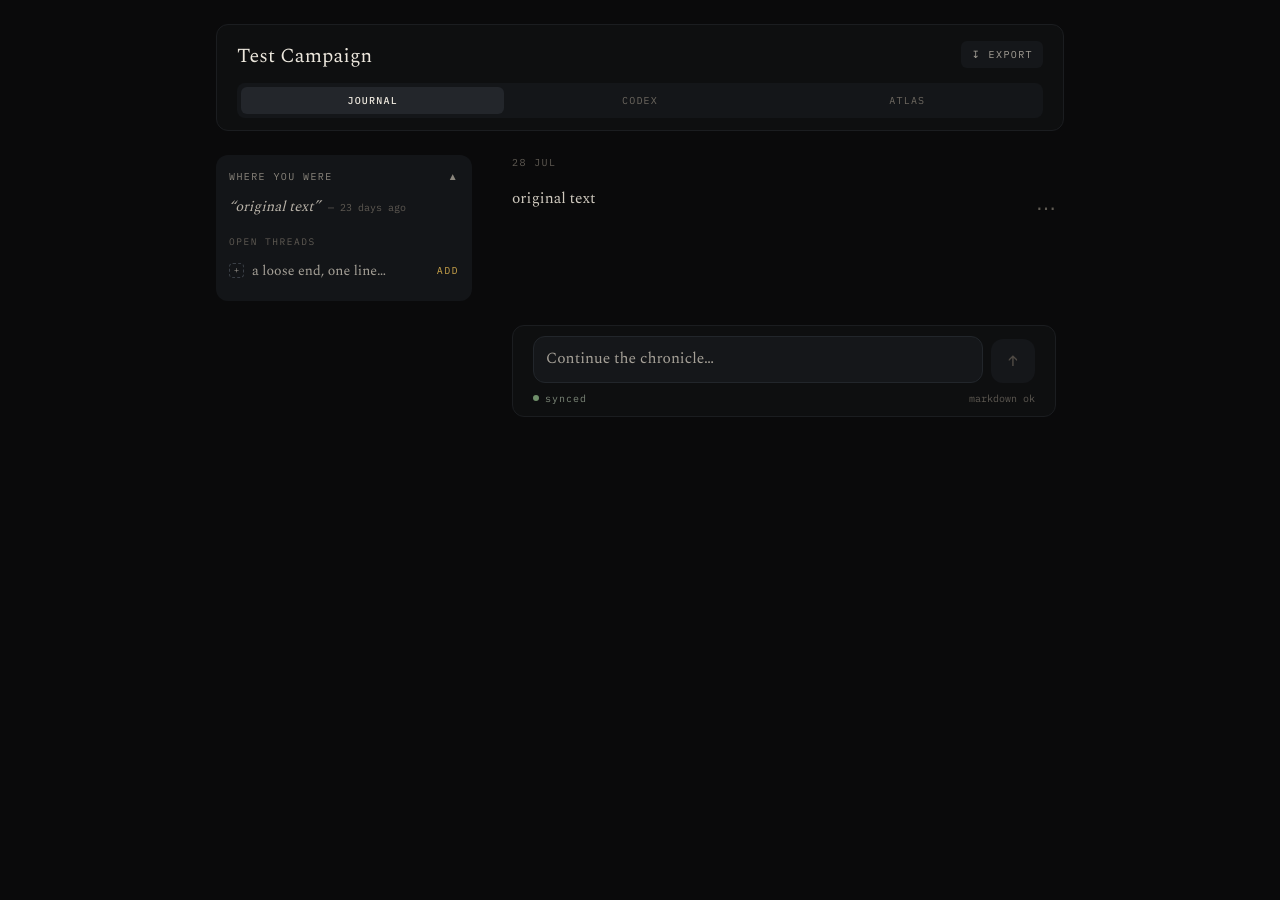
Scenario: Entry edit — the collision law (Lap 6) › THE COLLISION TEST: editing an entry never reads or writes the new-entry draft keys
Expected: the text "original text" is shown, [512,187,596,210]
// Type a new-entry draft and let it flush.
Type "original new-entry draft" into the text box with placeholder "Continue the chronicle…".
click(758, 359); type("original new-entry draft")  # box [533,336,983,382]
Wait 500 ms
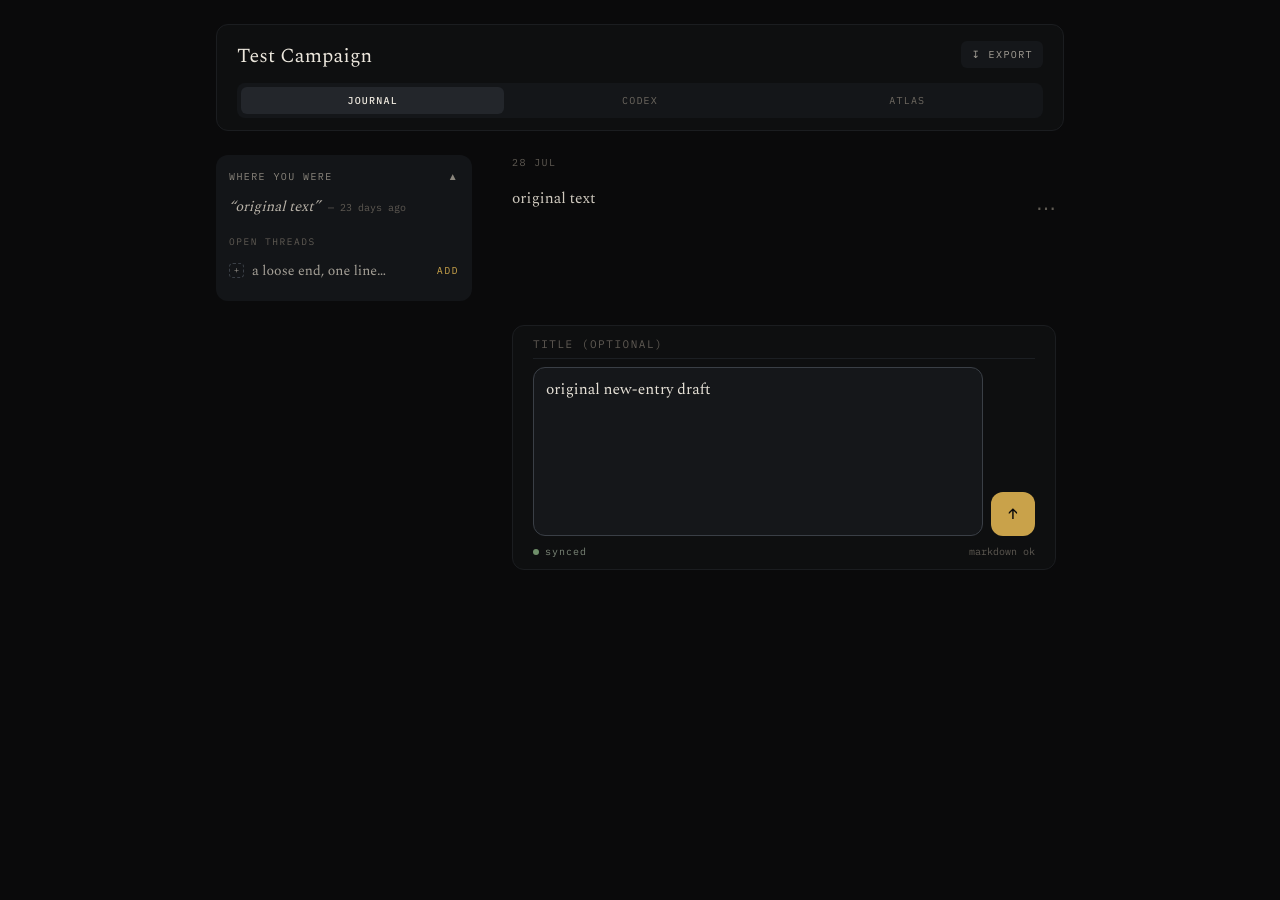
// Enter edit mode on the existing entry.
Click the button named "Entry actions".
click(1046, 208)  # box [1024,186,1068,230]
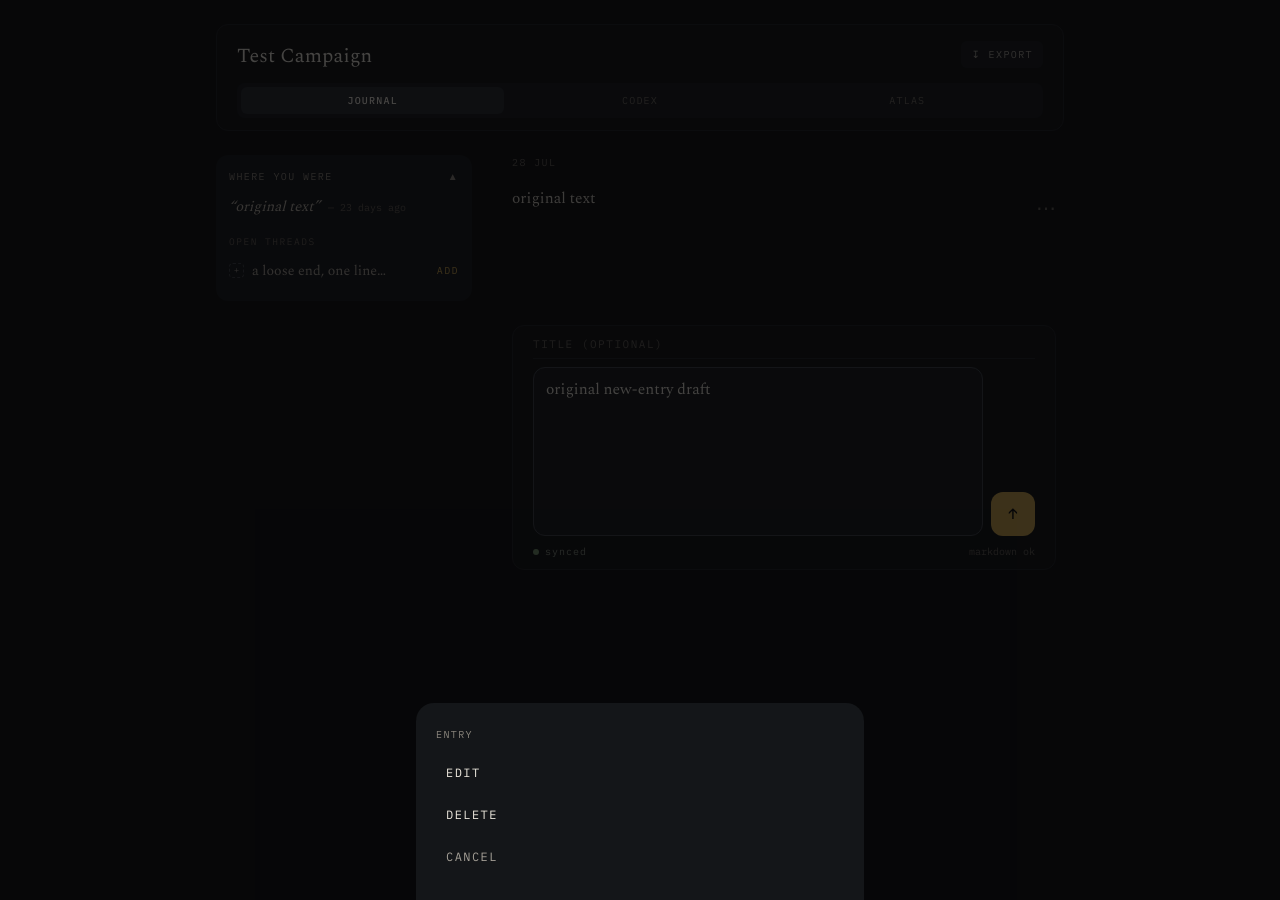
Click the button "Edit".
click(463, 772)  # box [436,754,844,792]
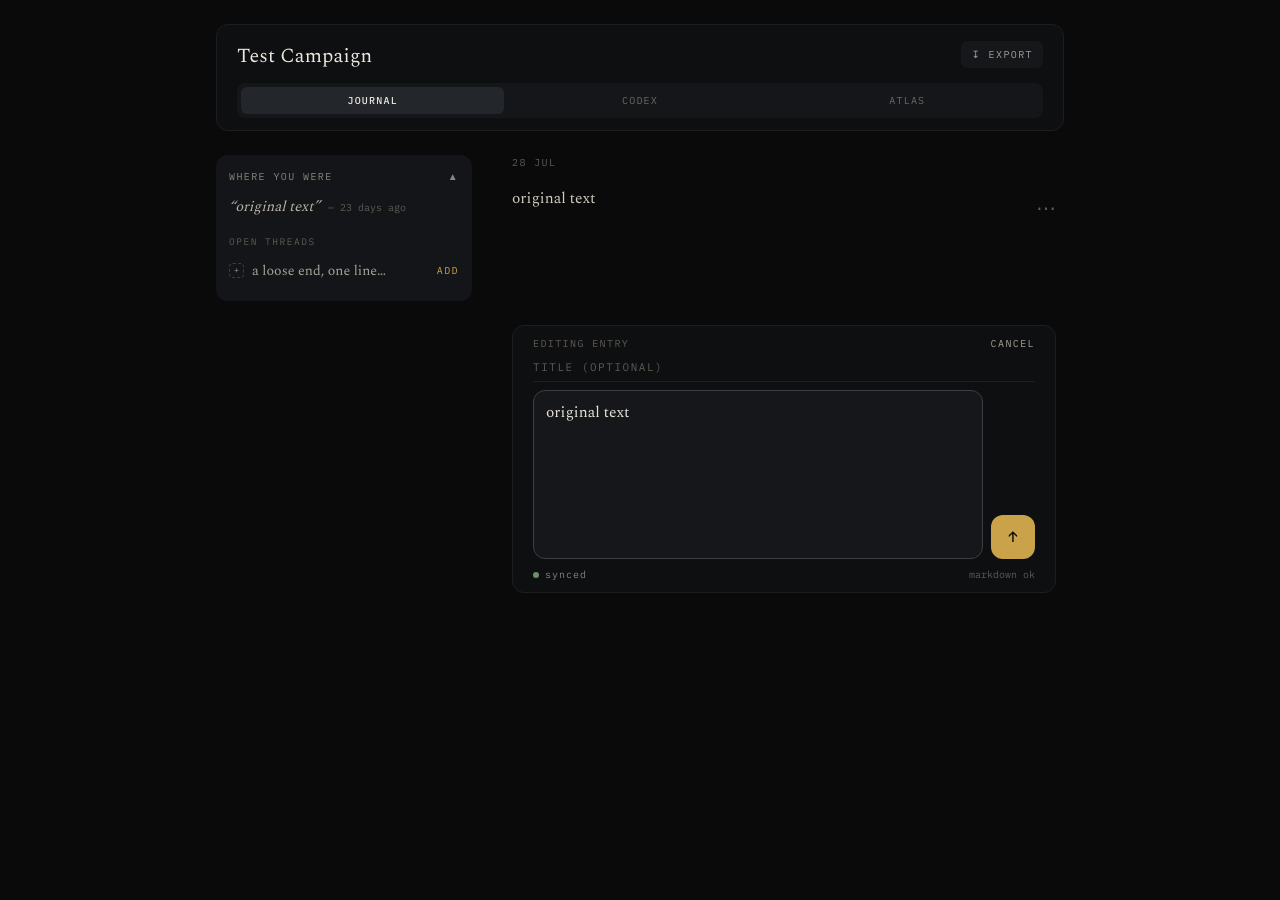
Expected: the text box with placeholder "Continue the chronicle…" holds "original text"
Replace the text in the text box with placeholder "Continue the chronicle…" with "edited text mid-flight" at (758, 475), box [533,390,983,559]
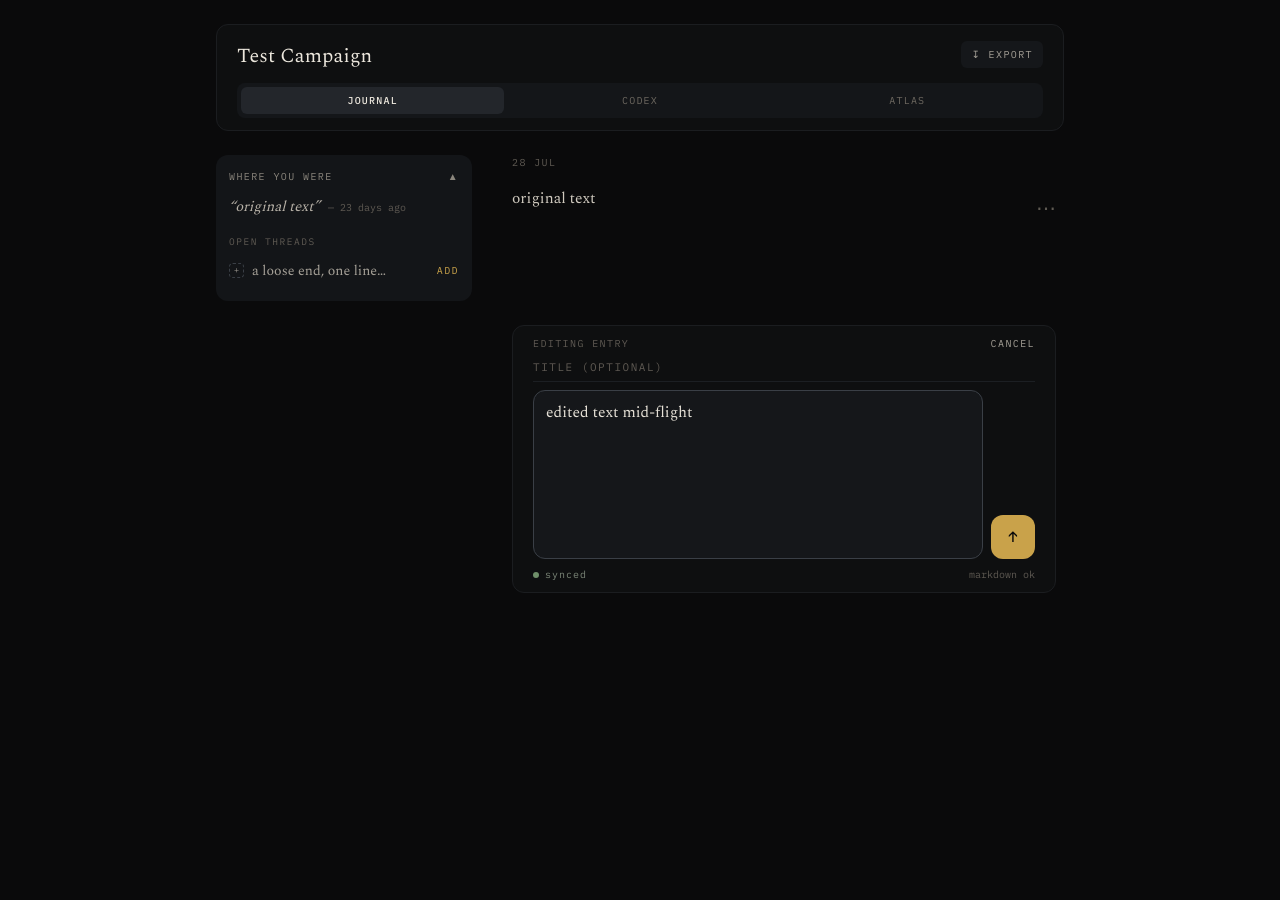
Click the button "Cancel".
click(1013, 343)  # box [991,336,1035,351]
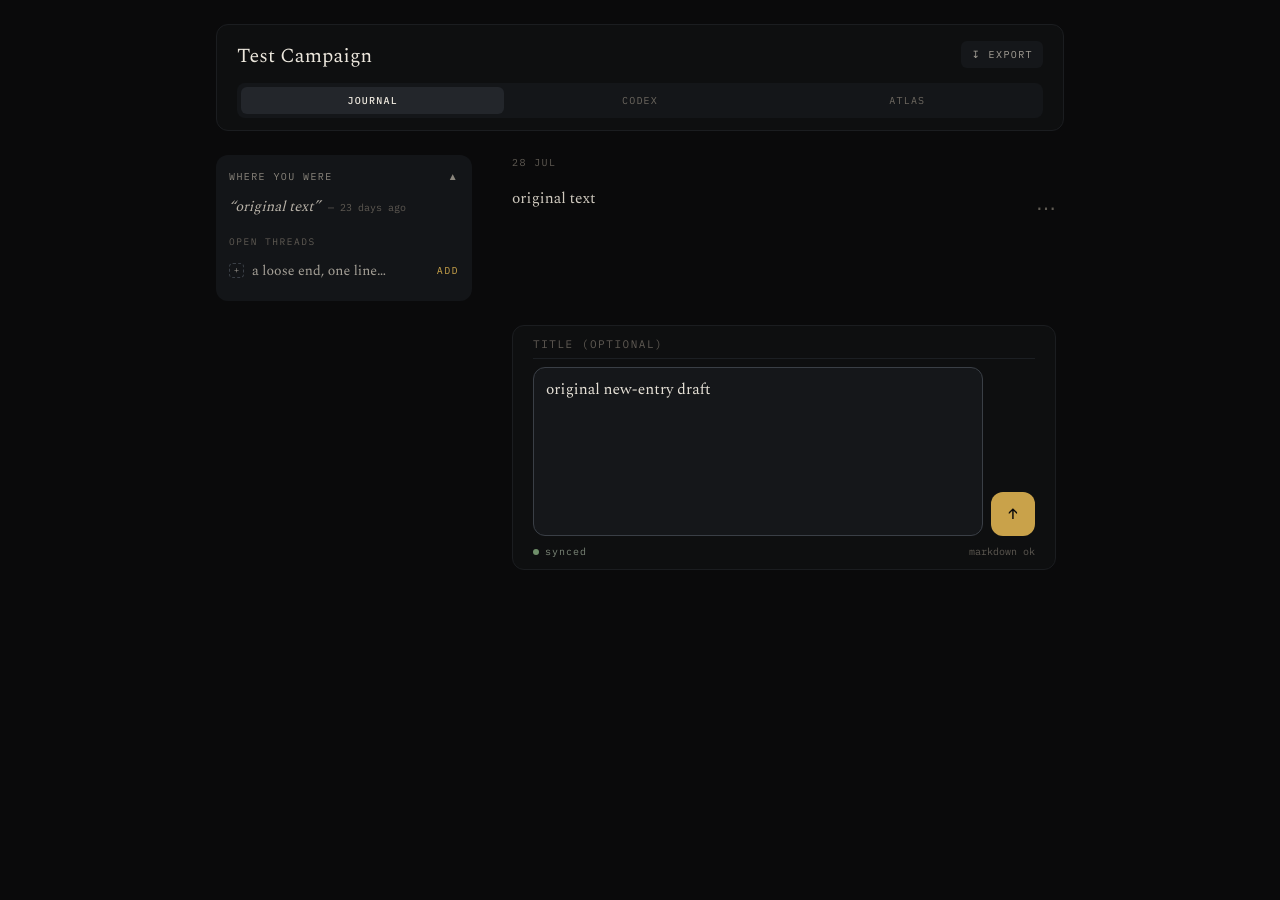
Expected: the text "original text" is shown, [512,187,596,210]
Expected: the text box with placeholder "Continue the chronicle…" holds "original new-entry draft", [533,367,983,536]
